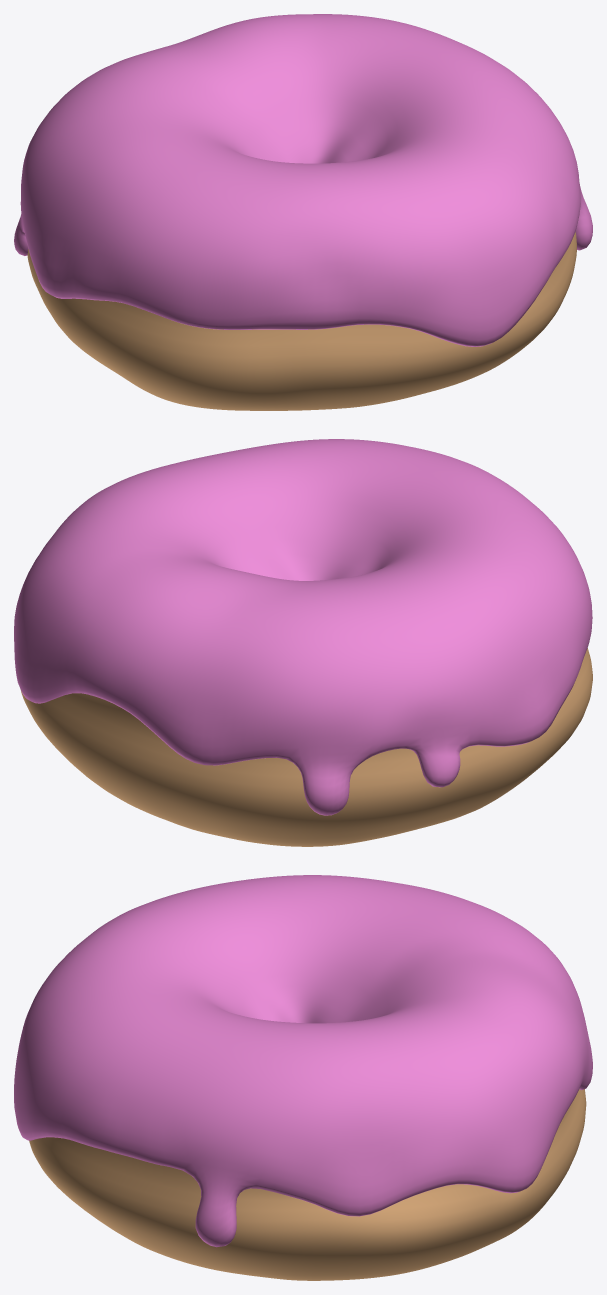
The model's file is donut.glb.
3 views of the same model, one above another, from view 1: azimuth 30°, elevation 25°; view 2: azimuth 150°, elevation 25°; view 3: azimuth 270°, elevation 25° (orthographic). The views are drawn at different scales.
Visible parts, largest first — view 1: Icing, Donut; view 2: Icing, Donut; view 3: Icing, Donut.
Part boxes in pixels (box(x1,y1,x2,y2)): Icing: box(14, 14, 592, 346); Donut: box(27, 232, 576, 410); Icing: box(14, 439, 592, 815); Donut: box(20, 648, 592, 846); Icing: box(14, 875, 592, 1247); Donut: box(29, 1089, 586, 1280).
Size of what is drawn, in the model's own units: 0.9631 by 0.4495 by 0.9598.
